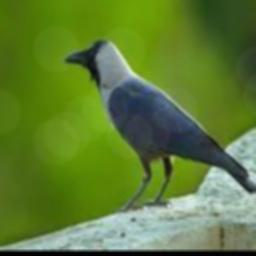Crow: (63, 40, 256, 209)
